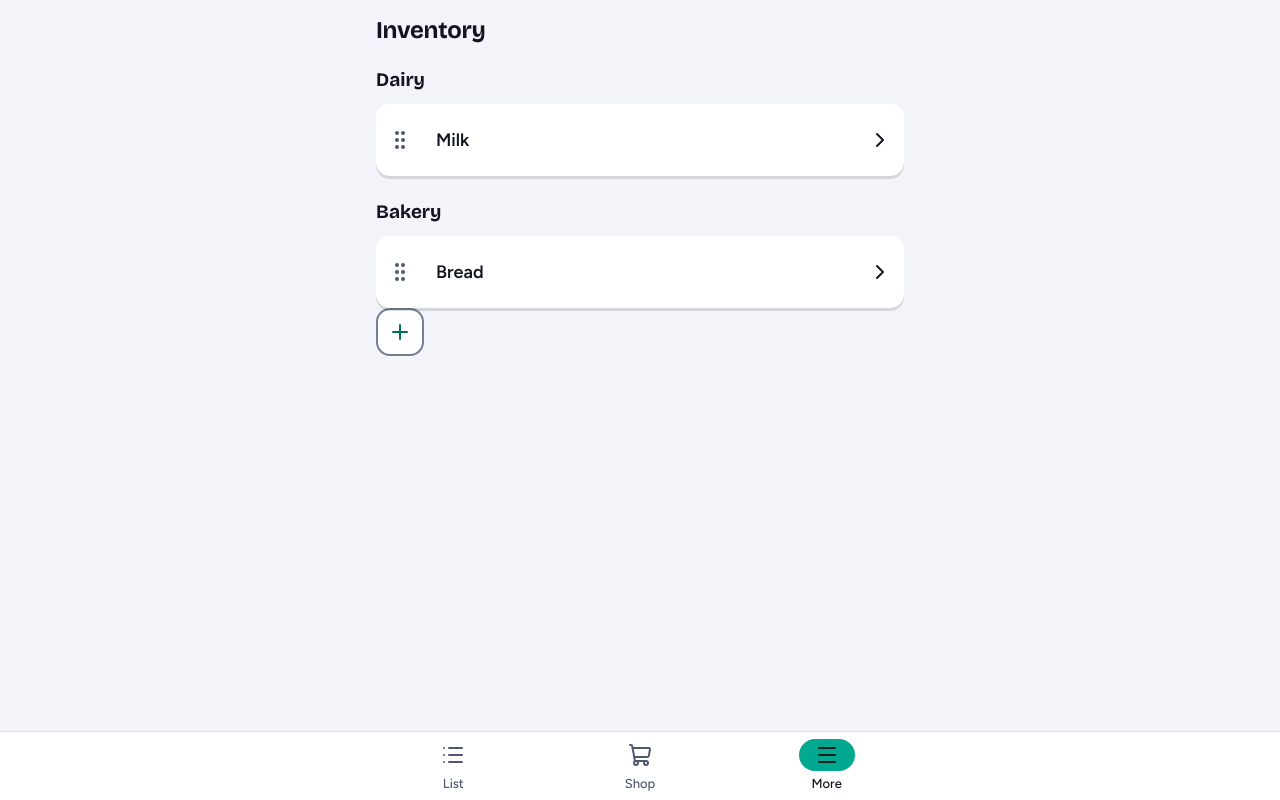
it: Adding a custom category on Inventory › saves one category for the household, stays on Inventory, closes the field and changes no item
Click the button named "Add Category" at (400, 332), box [376,308,424,356]
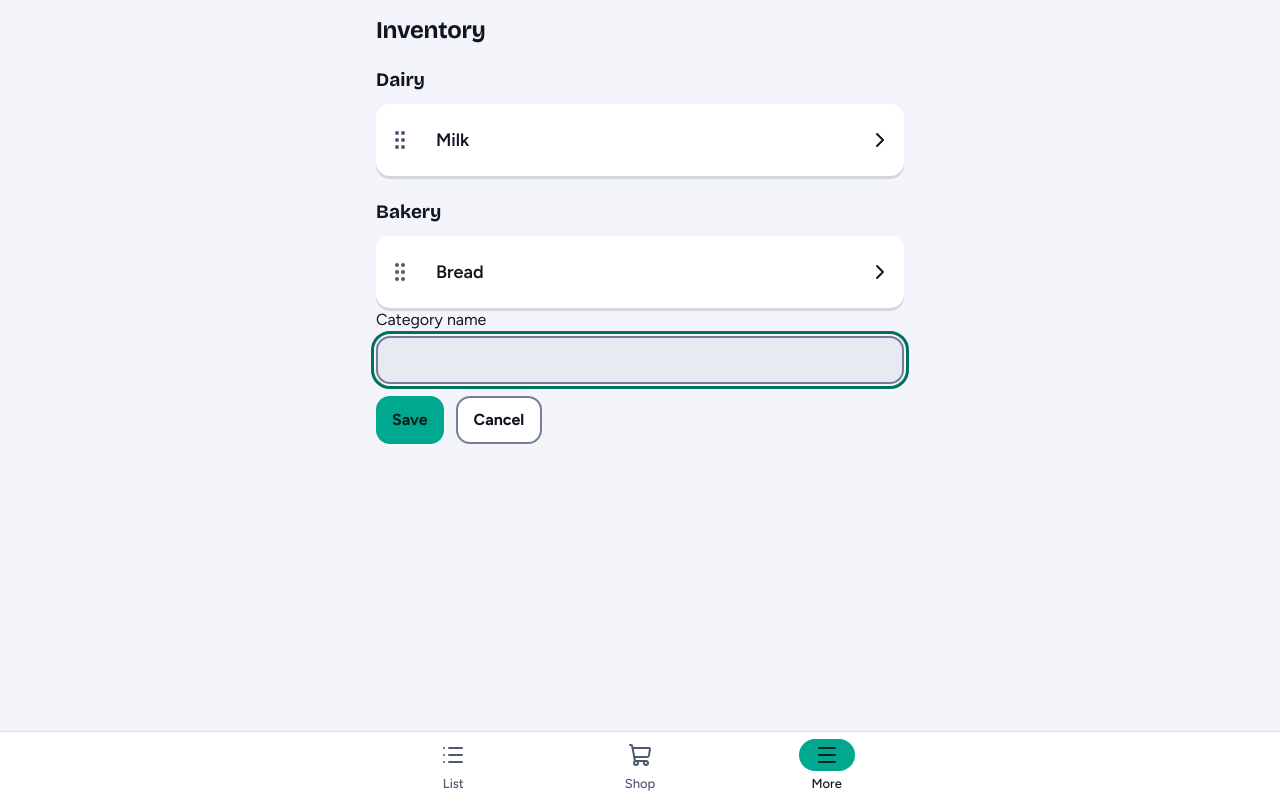
Type "  Baby   care " into the field labelled "Category name" at (640, 360), box [376,336,904,384]
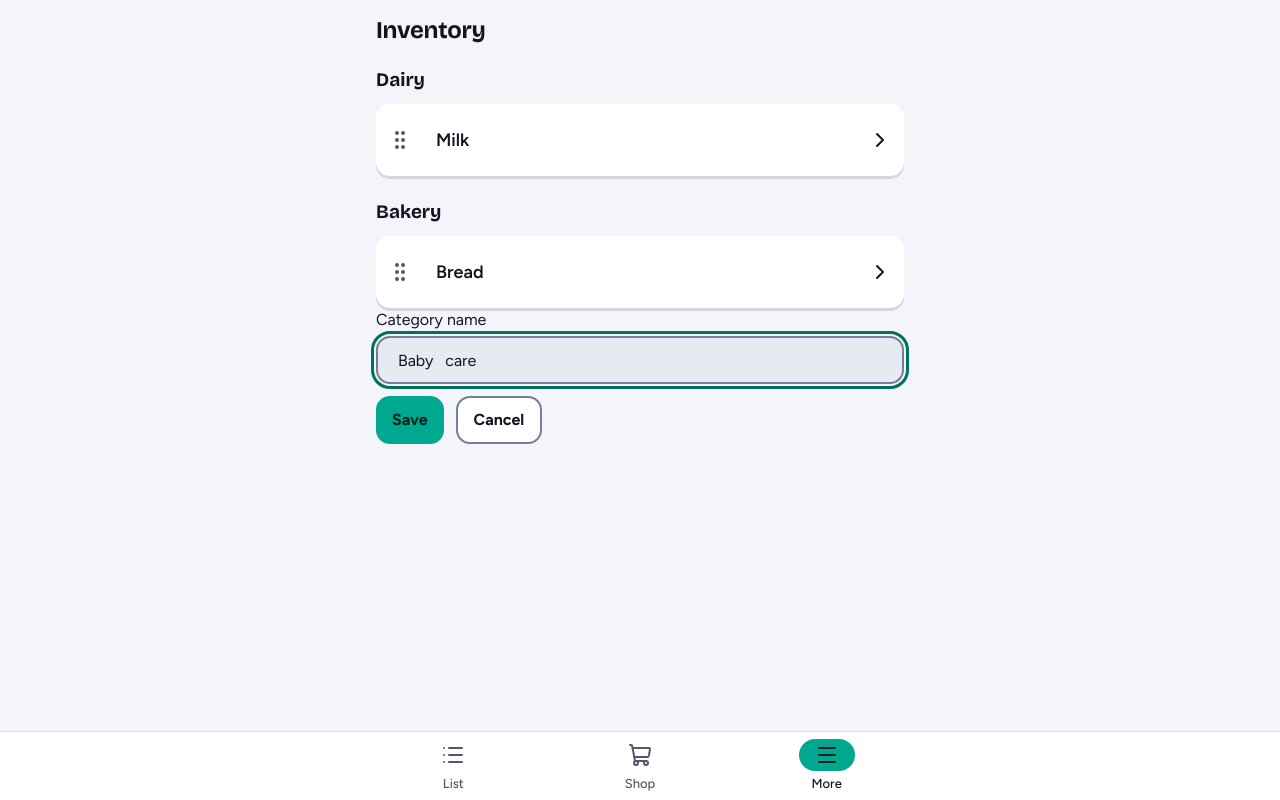
Click the button "Save" at (410, 420), box [376,396,444,444]
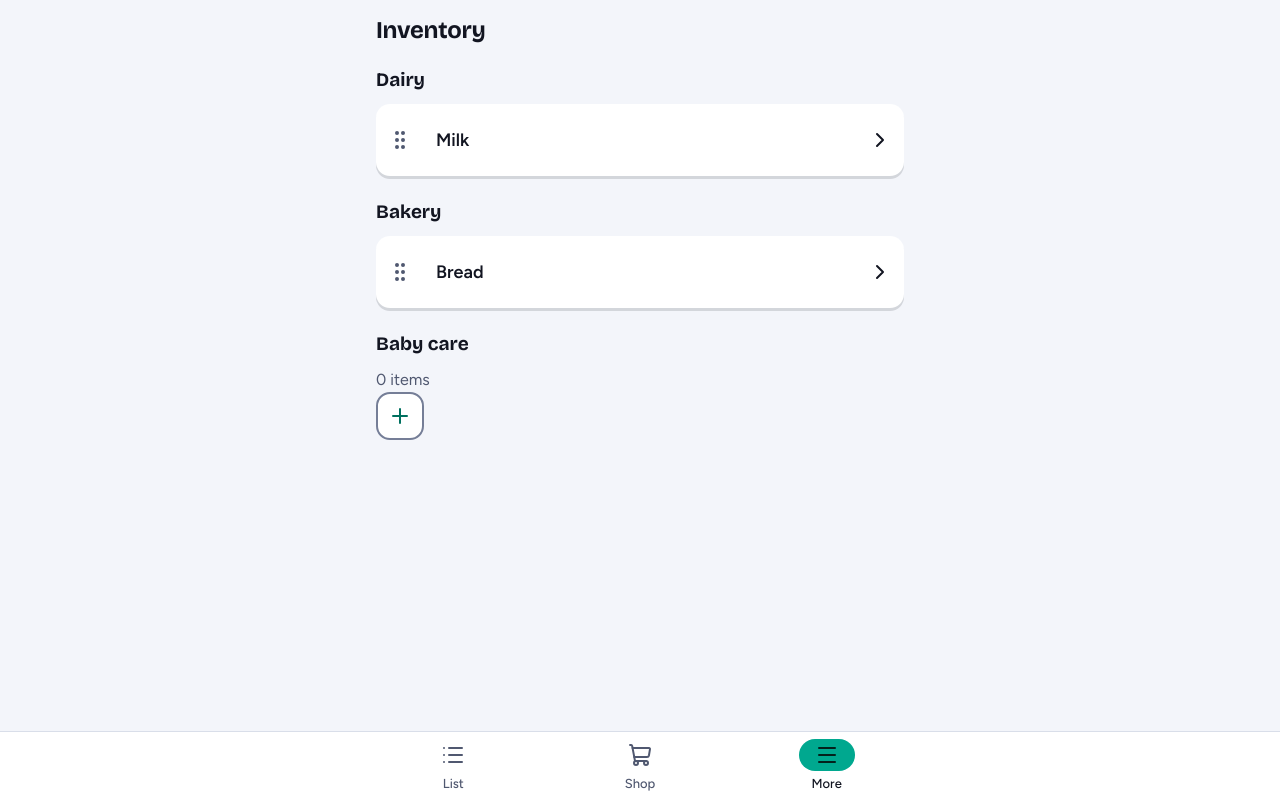
expect the label labelled "Category name" is gone: met
expect the heading "Baby care" is shown: met, box [376,332,469,355]
